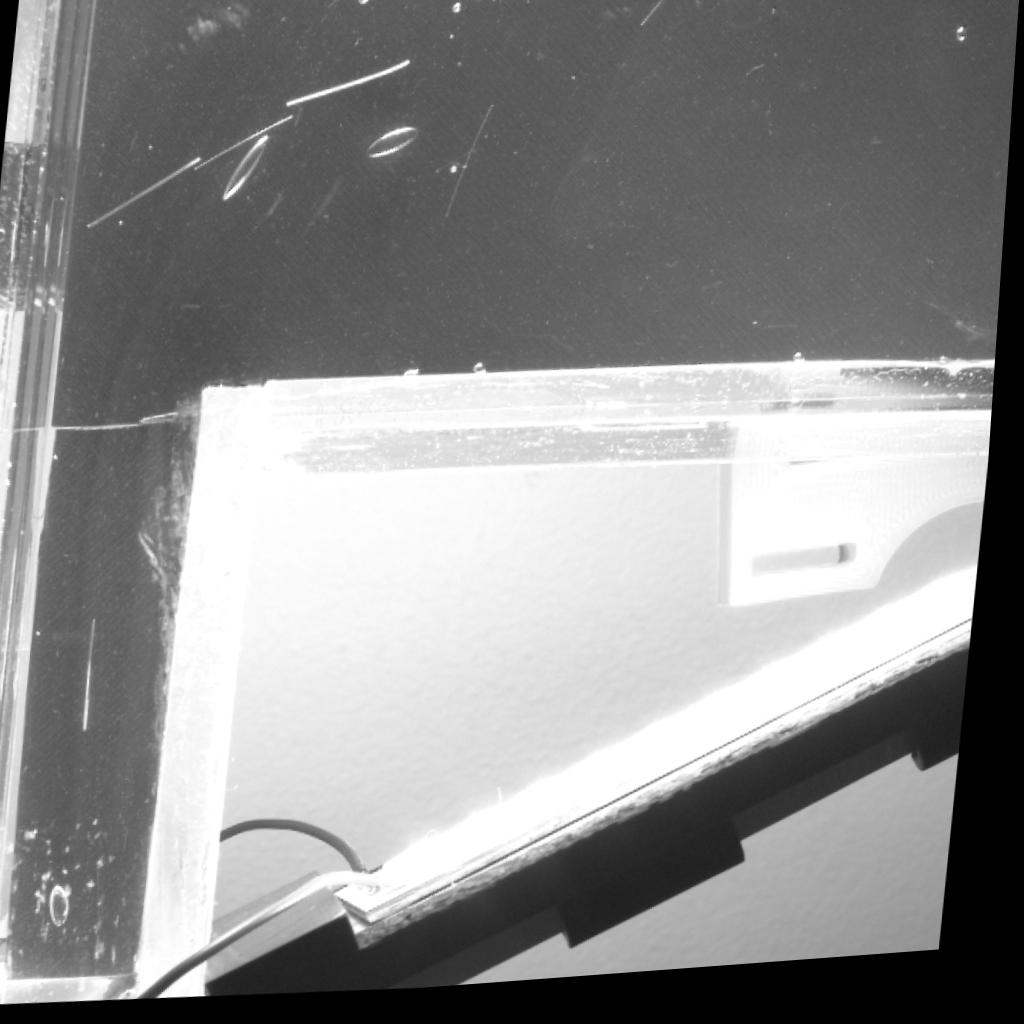Fiber: (81, 163, 199, 234), (281, 57, 414, 116), (441, 111, 499, 225), (192, 114, 294, 177), (87, 613, 107, 734), (636, 0, 674, 38)
